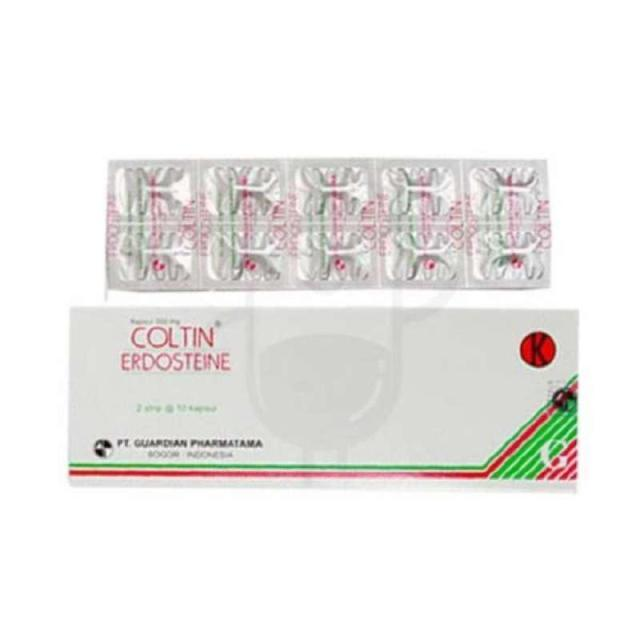drug-name: (129, 322, 218, 353)
